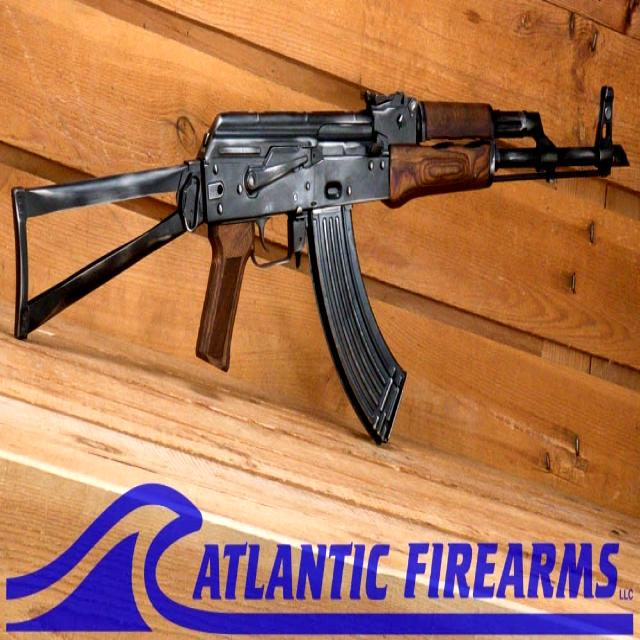ak: (7, 71, 633, 462)
